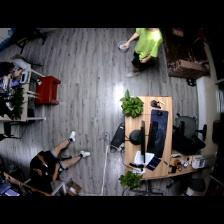normal: (27, 131, 89, 182), (122, 23, 162, 76), (1, 57, 34, 77)
